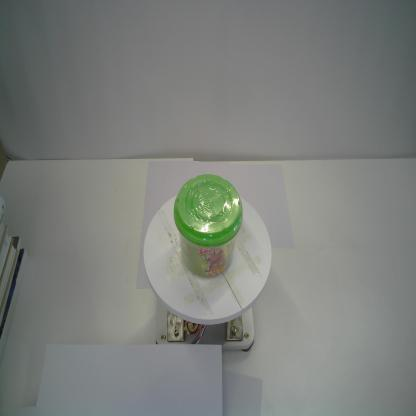Instant Drink: (172, 171, 245, 281)
